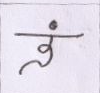anusvara: (49, 21, 57, 30)
